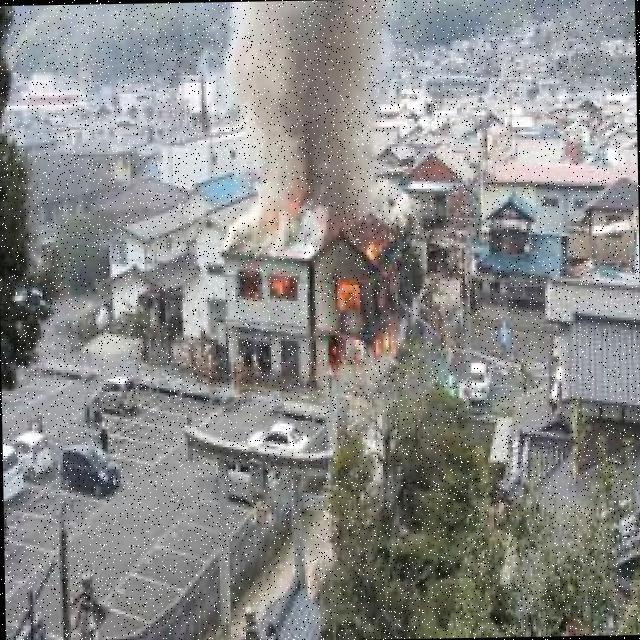Fire: (329, 240, 406, 372), (264, 270, 304, 295)
